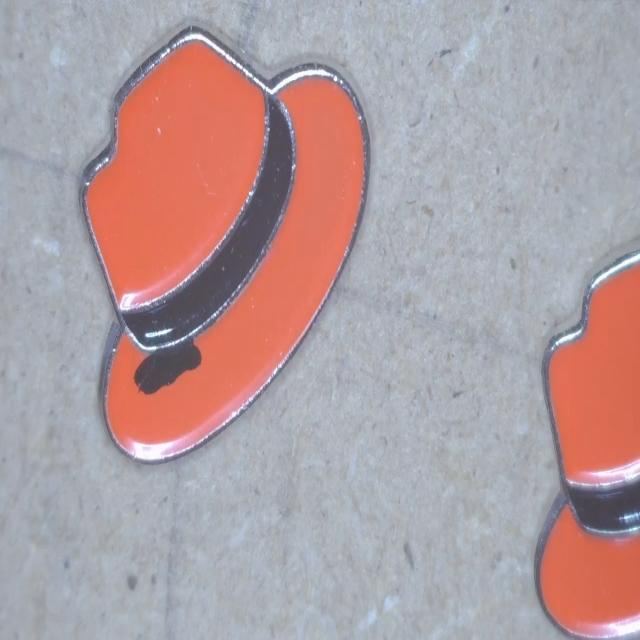Hatband: (122, 93, 295, 350), (566, 480, 640, 532)
Paint_Leak: (134, 340, 201, 394)
RedHatPin: (81, 29, 369, 461), (535, 253, 640, 638)
